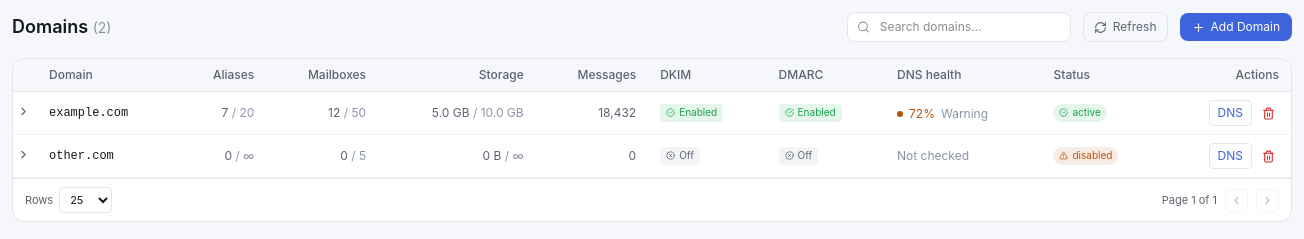
Domains table › shows the domain count and supports search
Check: the text "example.com" is shown, box [37,92,177,134]
Check: the heading "Domains (2)" is shown, box [12,13,111,41]
In the field labelled "Search domains": point(959, 27) [847,12,1071,42], type "other"
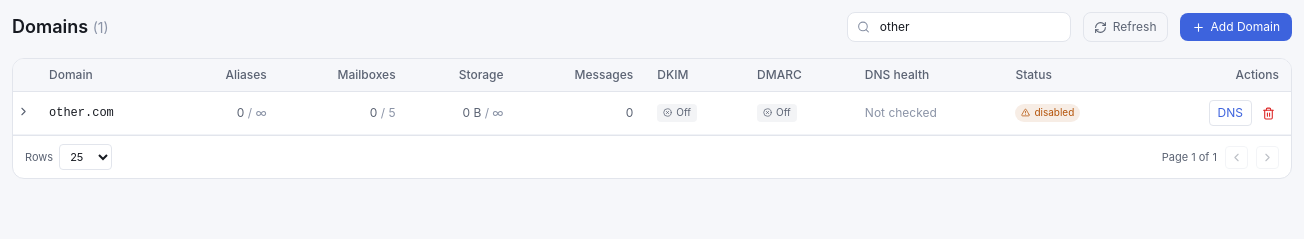
Check: the text "other.com" is shown, box [37,92,176,134]
Check: the text "example.com" is gone
